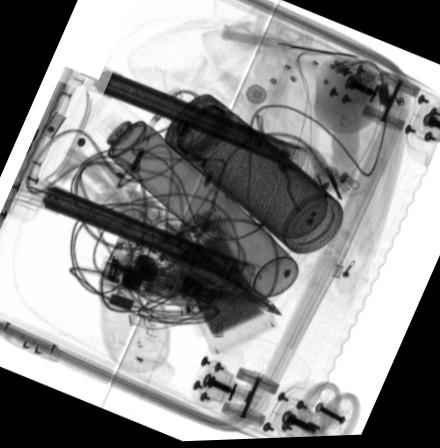Knife: (220, 31, 360, 63)
Powerbank: (164, 229, 279, 355)
Scissors: (166, 222, 281, 320)
Sprayer: (84, 102, 296, 298)
